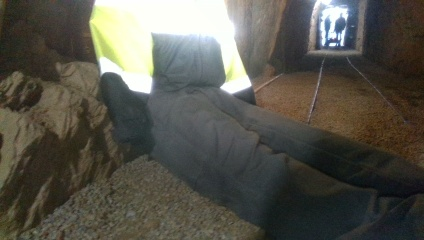manikin: (86, 2, 306, 238)
